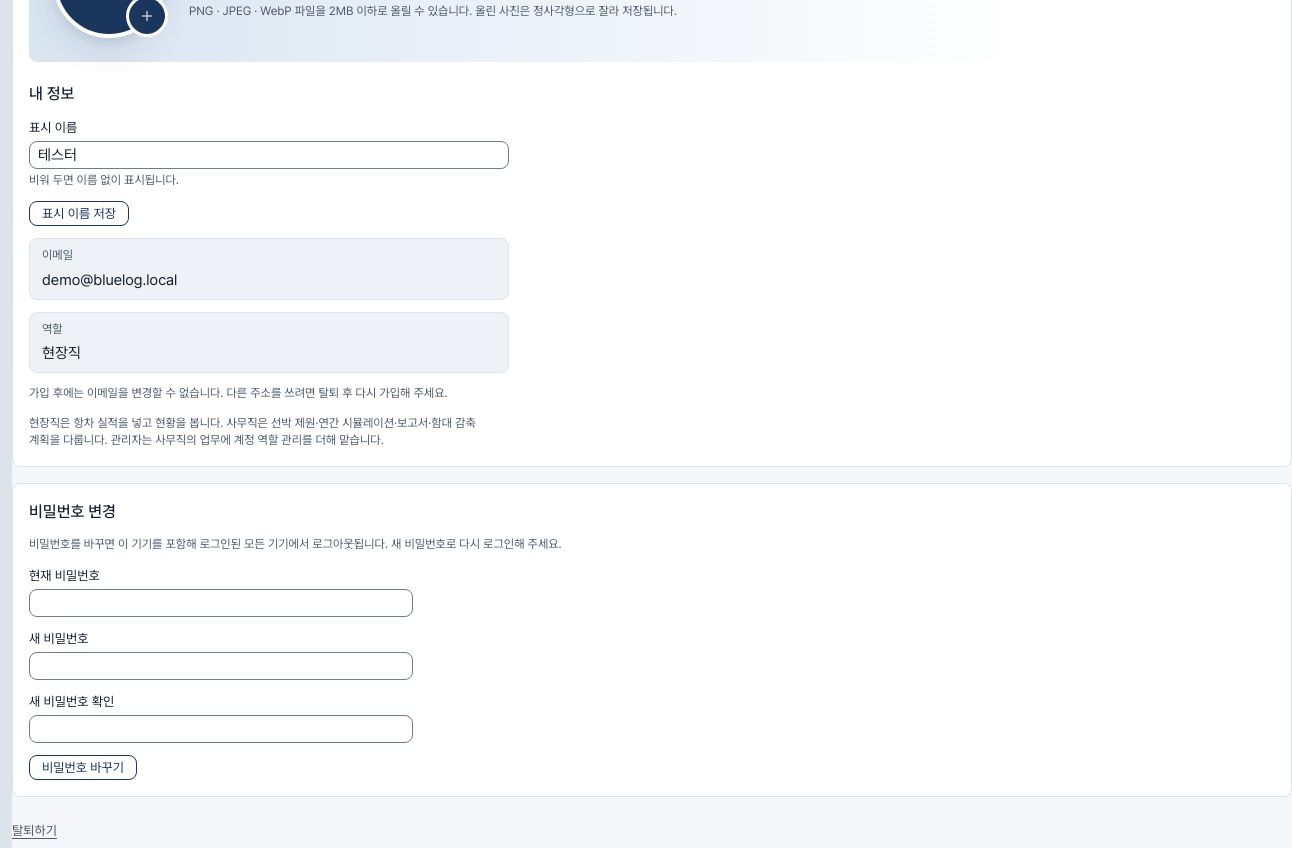
Test: 탈퇴 절이 존재한다 (#754) › `PRD §6.3` 문구가 **그대로** 나온다
(page scrolled)
Click the button "탈퇴하기" at x=34, y=830, box [12,821,57,840]
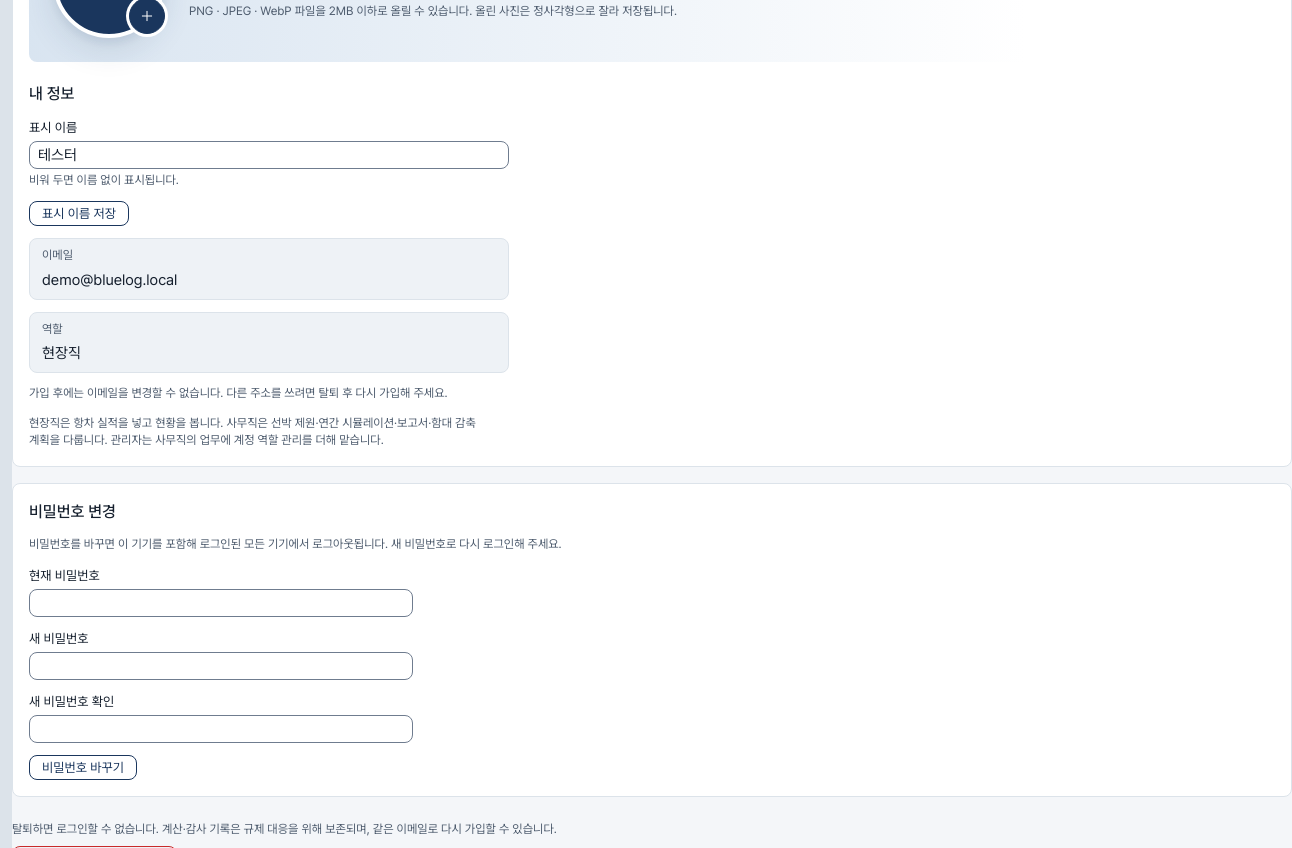
Expected: the text "탈퇴하면 로그인할 수 없습니다. 계산·감사 기록은 규제 대응을 위해 보존되며, 같은 이메일로 다시 가입할 수 있습니다." is shown, [12,821,557,838]
